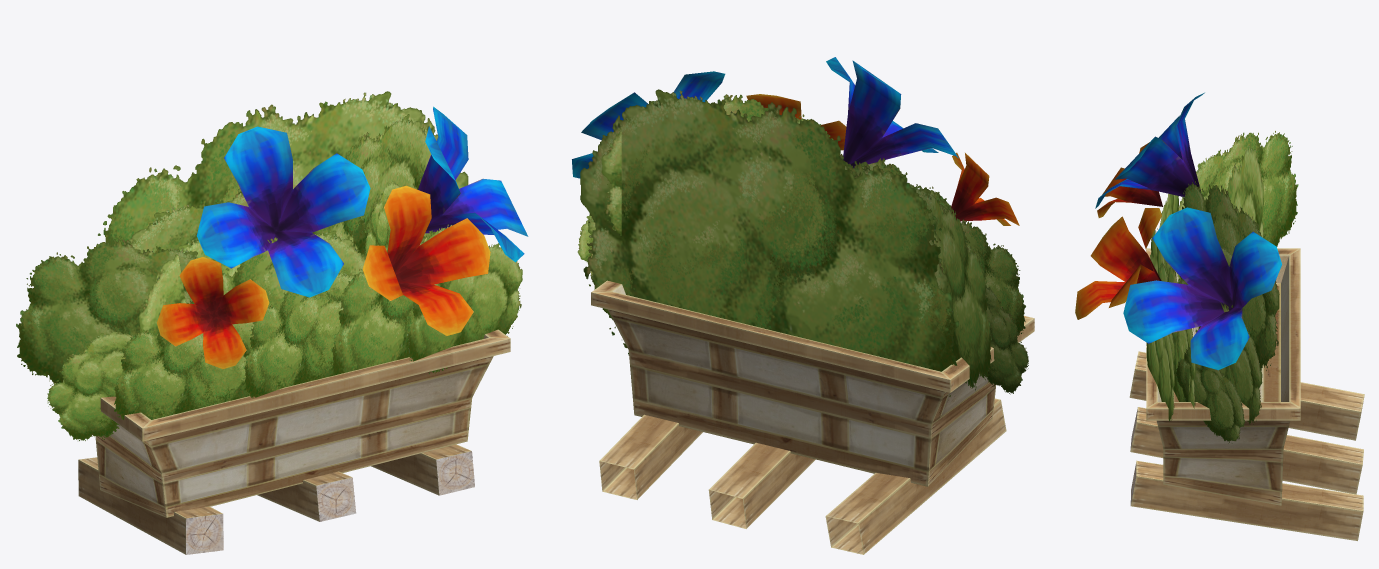
File: flowerBox1.fbx
The picture shows the model from 3 angles, left to right: view 1: azimuth 30°, elevation 25°; view 2: azimuth 150°, elevation 25°; view 3: azimuth 270°, elevation 25°; orthographic projection. The views are drawn at different scales.
Parts seen in each view (by area): view 1: Flower01; view 2: Flower01; view 3: Flower01.
Boxes of the visible parts, x1,y1,x2,y2 form: Flower01: (16,91,528,554); Flower01: (572,57,1034,554); Flower01: (1075,92,1364,540).
Bounding box in the file's own units: 5.7 × 4.8 × 3.23.
